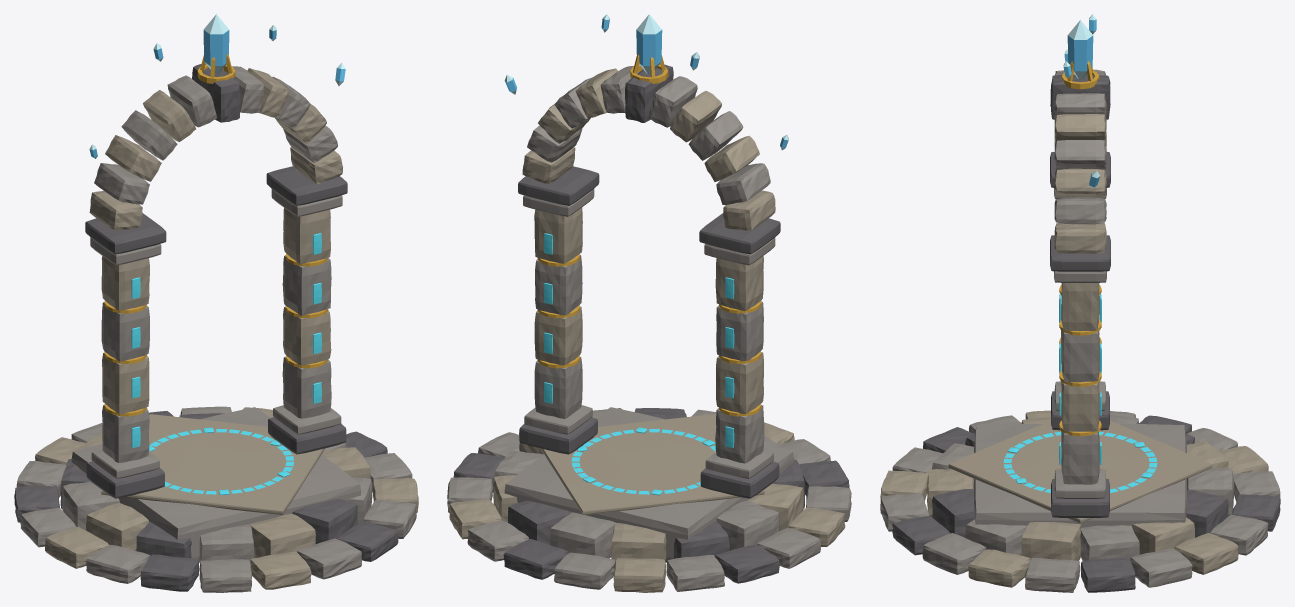
File: Waystone_Portal.obj
The picture shows the model from 3 angles, left to right: view 1: azimuth 30°, elevation 25°; view 2: azimuth 150°, elevation 25°; view 3: azimuth 270°, elevation 25°; orthographic projection.
Visible parts, largest first — view 1: Waystone_Portal; view 2: Waystone_Portal; view 3: Waystone_Portal.
Boxes of the visible parts, left/top/right/bottom form: Waystone_Portal: left=14, top=14, right=418, bottom=592; Waystone_Portal: left=447, top=14, right=851, bottom=592; Waystone_Portal: left=880, top=14, right=1280, bottom=592.
Size of the model in its own units: 4.06 by 5.48 by 4.06.
